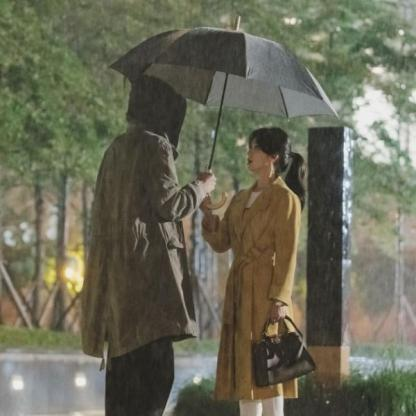Umbrella: (108, 10, 344, 148)
